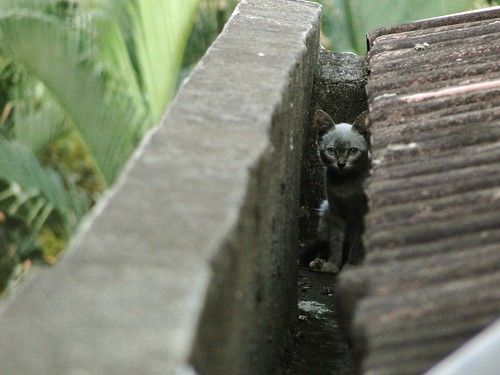animal: (300, 103, 376, 278)
